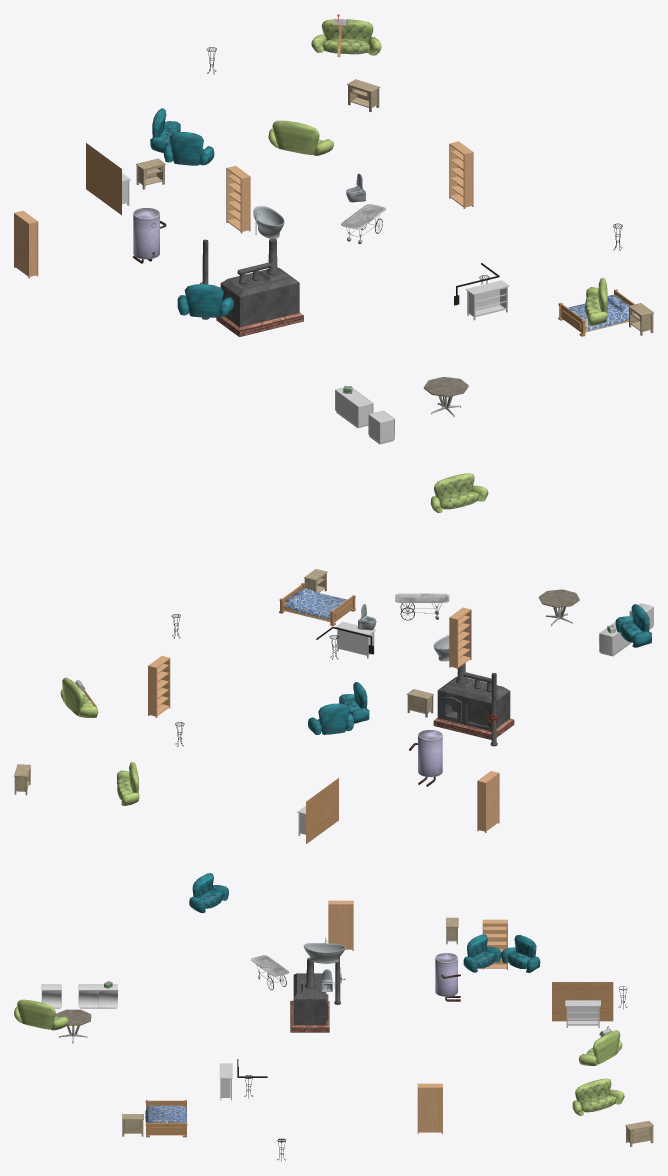
File: NeighborMebelSeparated.fbx
The picture shows the model from 3 angles, top to bottom: view 1: azimuth 30°, elevation 25°; view 2: azimuth 150°, elevation 25°; view 3: azimuth 270°, elevation 25°; orthographic projection. The views are drawn at different scales.
Visible parts, largest first — view 1: NeighborMebel.299, NeighborMebel.242, NeighborMebel.088, NeighborMebel.053, NeighborMebel.066, NeighborMebel.006, NeighborMebel.157, NeighborMebel.165, NeighborMebel.301, NeighborMebel.144, NeighborMebel.064, NeighborMebel.277 (+10 smaller); view 2: NeighborMebel.299, NeighborMebel.301, NeighborMebel.001, NeighborMebel.088, NeighborMebel.006, NeighborMebel.157, NeighborMebel.165, NeighborMebel.144, NeighborMebel.071, NeighborMebel.066, NeighborMebel.277, NeighborMebel.242 (+6 smaller); view 3: NeighborMebel.299, NeighborMebel.088, NeighborMebel.301, NeighborMebel.157, NeighborMebel.053, NeighborMebel.006, NeighborMebel.001, NeighborMebel.144, NeighborMebel.066, NeighborMebel.071, NeighborMebel.207, NeighborMebel.064 (+10 smaller).
Part boxes in pixels (x1,y1,x2,y2): NeighborMebel.299: (216, 239, 303, 336); NeighborMebel.242: (311, 19, 381, 55); NeighborMebel.088: (86, 143, 121, 215); NeighborMebel.053: (268, 120, 333, 155); NeighborMebel.066: (177, 284, 233, 317); NeighborMebel.006: (226, 165, 250, 233); NeighborMebel.157: (449, 141, 473, 208); NeighborMebel.165: (14, 210, 38, 278); NeighborMebel.301: (558, 289, 634, 336); NeighborMebel.144: (133, 208, 166, 263); NeighborMebel.064: (163, 132, 214, 165); NeighborMebel.277: (465, 280, 509, 320); NeighborMebel.299: (433, 663, 514, 739); NeighborMebel.301: (279, 582, 355, 625); NeighborMebel.001: (430, 473, 488, 512); NeighborMebel.088: (306, 778, 338, 844); NeighborMebel.006: (449, 607, 471, 669); NeighborMebel.157: (148, 656, 170, 717); NeighborMebel.165: (477, 771, 499, 832); NeighborMebel.144: (409, 730, 442, 786); NeighborMebel.071: (308, 703, 353, 734); NeighborMebel.066: (615, 604, 651, 647); NeighborMebel.277: (336, 621, 375, 658); NeighborMebel.242: (60, 677, 98, 717); NeighborMebel.299: (290, 957, 329, 1032); NeighborMebel.088: (552, 982, 613, 1021); NeighborMebel.301: (145, 1100, 187, 1137); NeighborMebel.157: (417, 1083, 442, 1133); NeighborMebel.053: (572, 1078, 624, 1115); NeighborMebel.006: (328, 900, 353, 950); NeighborMebel.001: (14, 999, 68, 1030); NeighborMebel.144: (435, 953, 460, 1001); NeighborMebel.066: (189, 873, 228, 912); NeighborMebel.071: (501, 935, 540, 972); NeighborMebel.207: (78, 984, 117, 1008); NeighborMebel.064: (463, 934, 501, 972).
Size of the model in its own units: 2429 by 665 by 3286.
